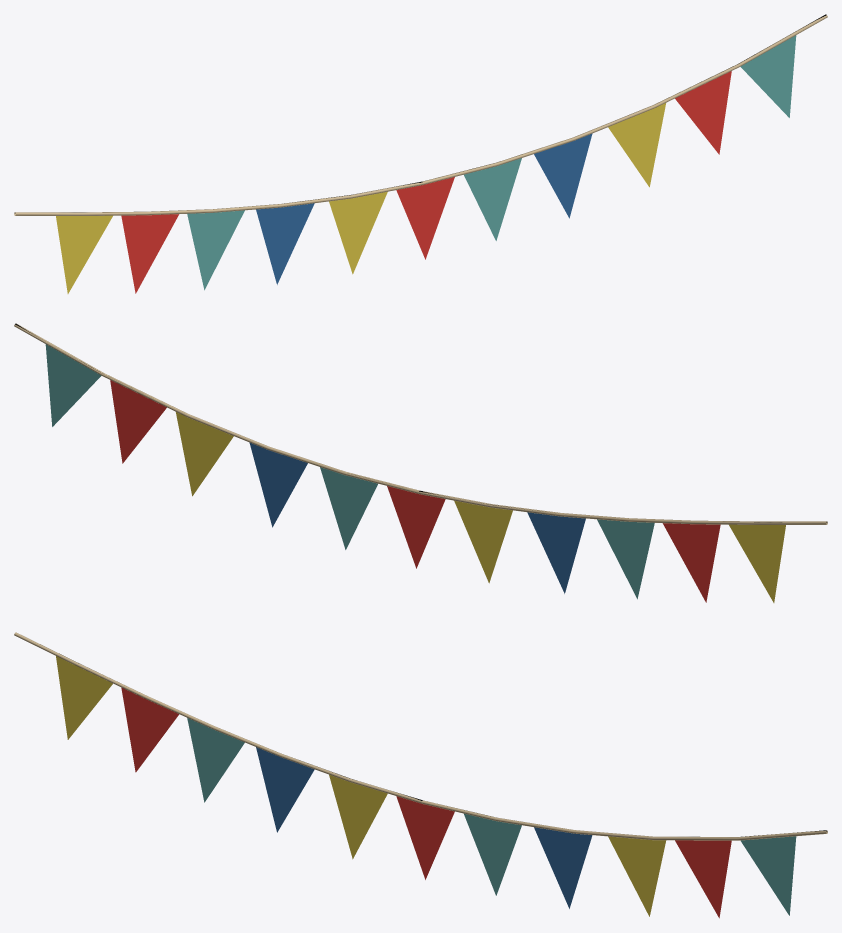
File: ENV_Flags.FBX
The picture shows the model from 3 angles, top to bottom: view 1: azimuth 30°, elevation 25°; view 2: azimuth 150°, elevation 25°; view 3: azimuth 330°, elevation 25°; orthographic projection.
Parts seen in each view (by area): view 1: ENV_Flags; view 2: ENV_Flags; view 3: ENV_Flags.
Part boxes in pixels (bbox=[...]): ENV_Flags: bbox=[14, 14, 827, 293]; ENV_Flags: bbox=[14, 323, 827, 602]; ENV_Flags: bbox=[14, 632, 827, 918].
Bounding box in the file's own units: 603 × 105 × 2.38.
1 material, 1 textured.
